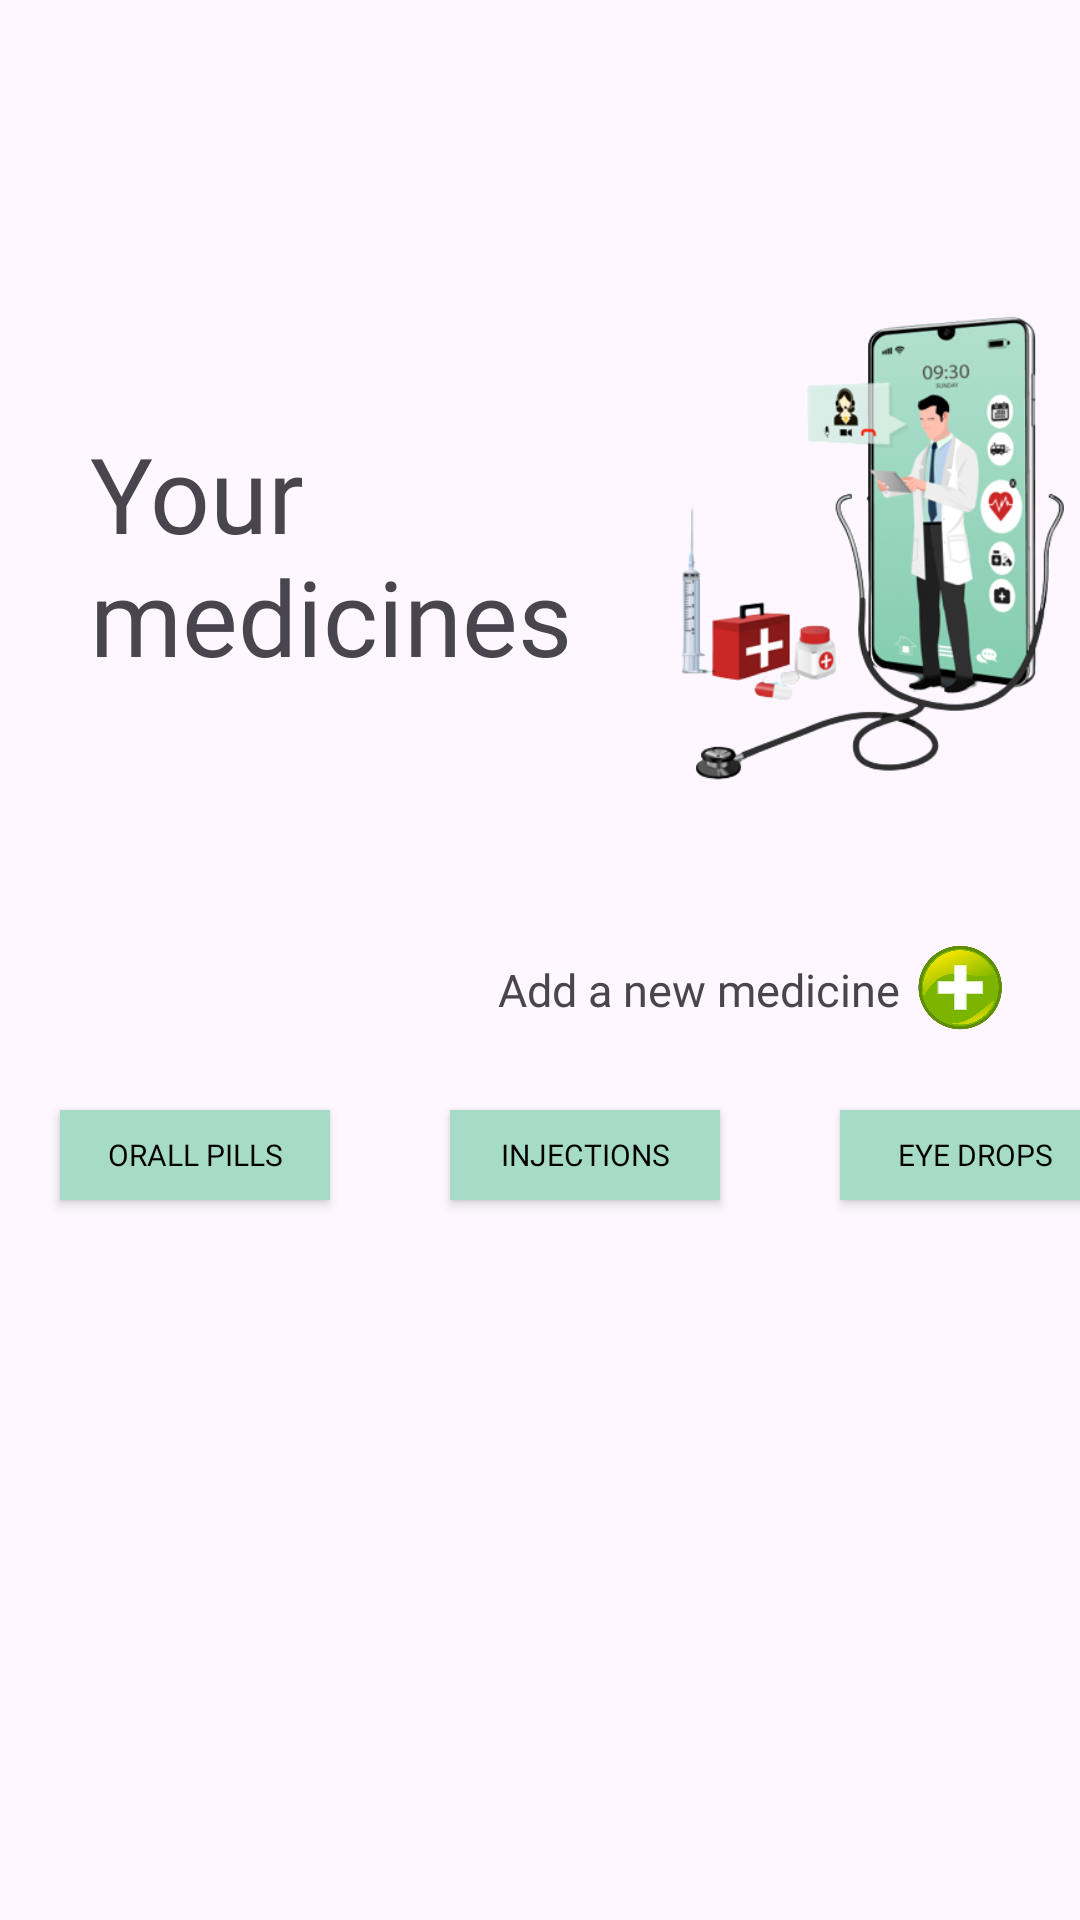

Screen size 1080px x 1920px. Icon name, then its box in pixels as (x1, y1, x2, y2):
plus: (918, 946, 1002, 1030)
